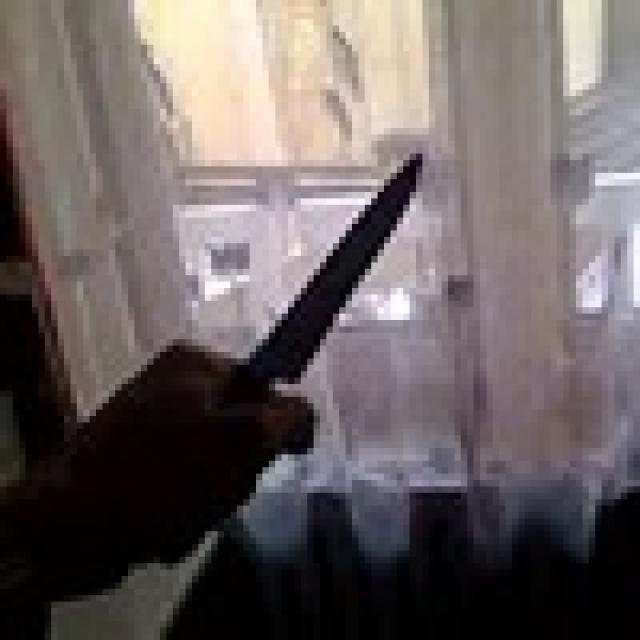Knife: (224, 134, 429, 429)
